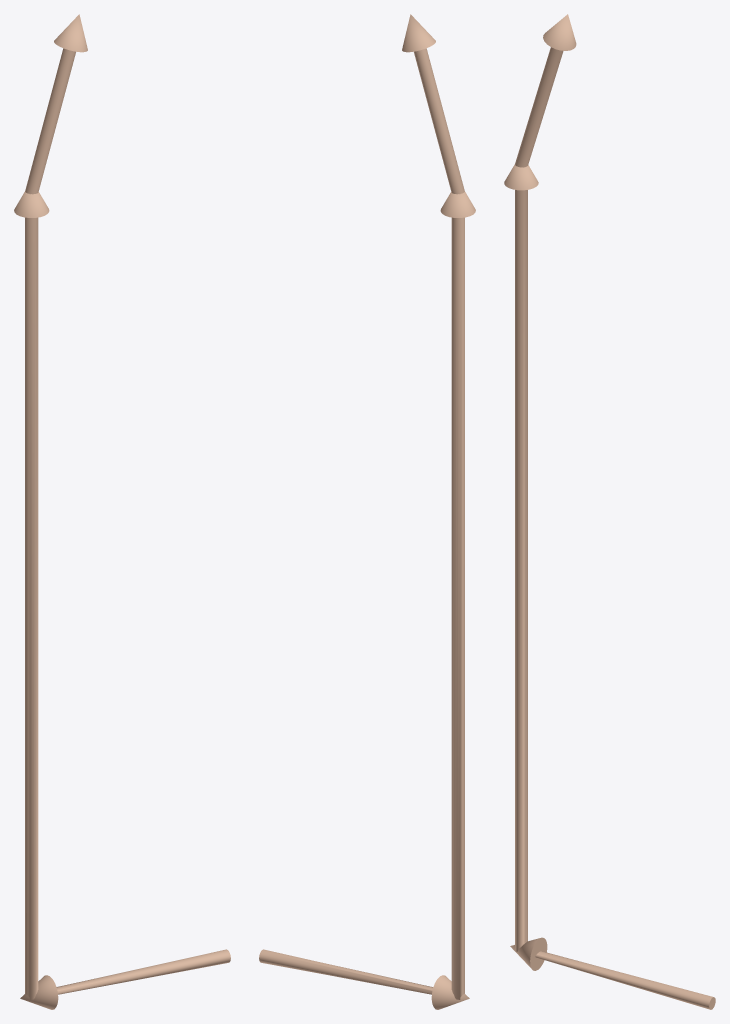
The model's file is chimney_stack_flow.glb.
3 renders of one model, left to right at view 1: azimuth 30°, elevation 25°; view 2: azimuth 150°, elevation 25°; view 3: azimuth 330°, elevation 25°, orthographic. The views are drawn at different scales.
Parts seen in each view (by area): view 1: flue_gas; view 2: flue_gas; view 3: flue_gas.
Boxes of the visible parts, left/top/right/bottom form: flue_gas: left=14, top=14, right=230, bottom=1009; flue_gas: left=259, top=14, right=475, bottom=1009; flue_gas: left=504, top=14, right=715, bottom=1009.
Size of the model in its own units: 1.43 by 6.39 by 0.208.
